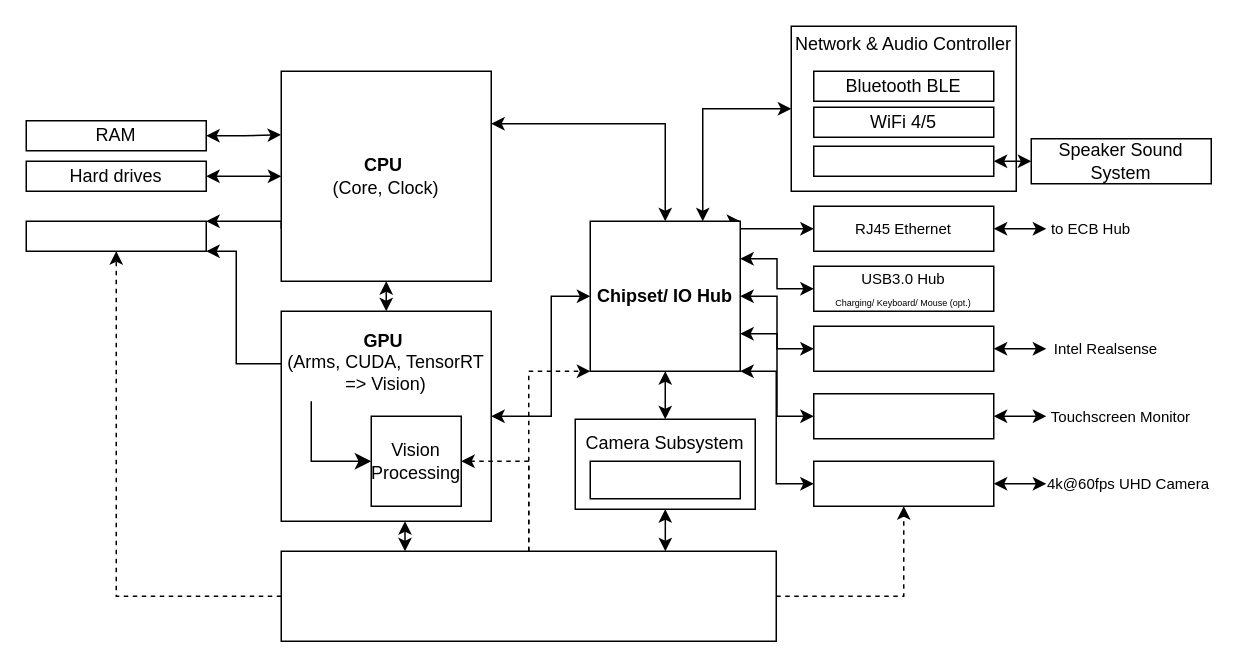
Some shapes in this 1238 by 668 pixel diagram are drawn without their labels. The shapes that lost their labels are listed below. From the top down, each one's centre as x and y in pixels, then its label:
[903,160]: Sound Card
[115,235]: Cooling system
[903,348]: USB-C Interface (x3) Intel Realsense (Aerial Camera)
[903,415]: HDMI2.1 Interface TouchScreen Monitor
[664,479]: Webcam
[903,483]: SDI Interface 4K@60fps UHD Camera
[528,595]: Power Supply (Regulator)
